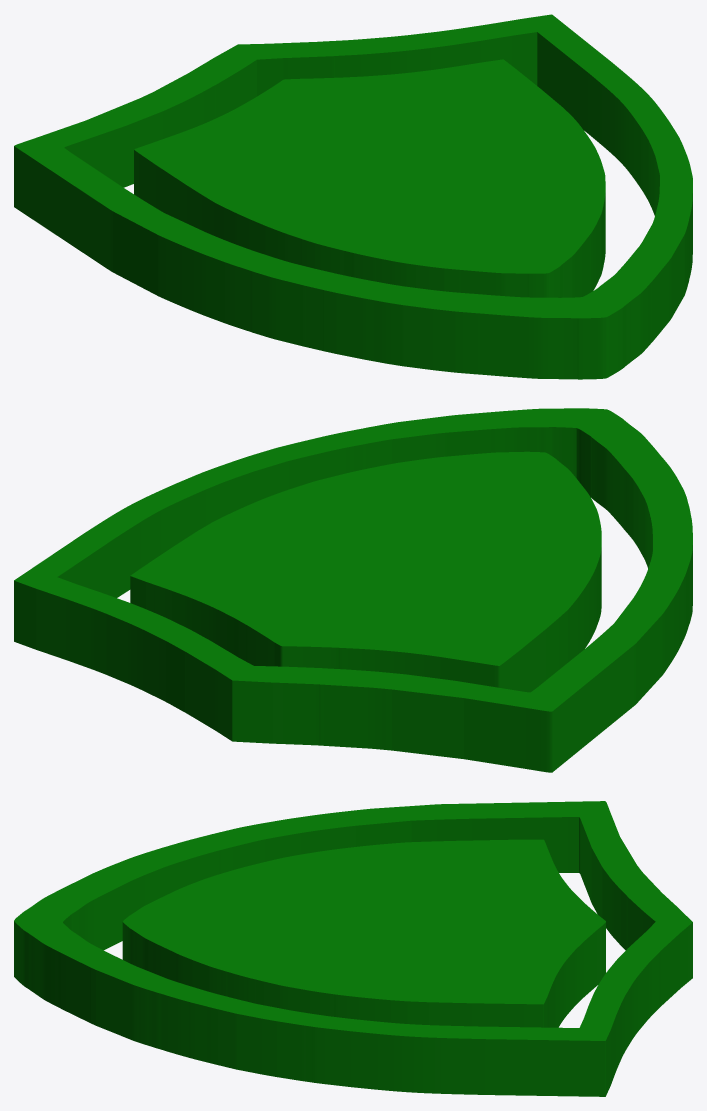
The model's file is shield.fbx.
3 views of the same model, one above another, from view 1: azimuth 30°, elevation 25°; view 2: azimuth 150°, elevation 25°; view 3: azimuth 270°, elevation 25° (orthographic). The views are drawn at different scales.
Parts seen in each view (by area): view 1: svg_3; view 2: svg_3; view 3: svg_3.
Boxes of the visible parts, left/top/right/bottom form: svg_3: left=14, top=14, right=692, bottom=379; svg_3: left=14, top=408, right=692, bottom=772; svg_3: left=14, top=801, right=692, bottom=1096.
Bounding box in the file's own units: 461 × 50 × 551.
